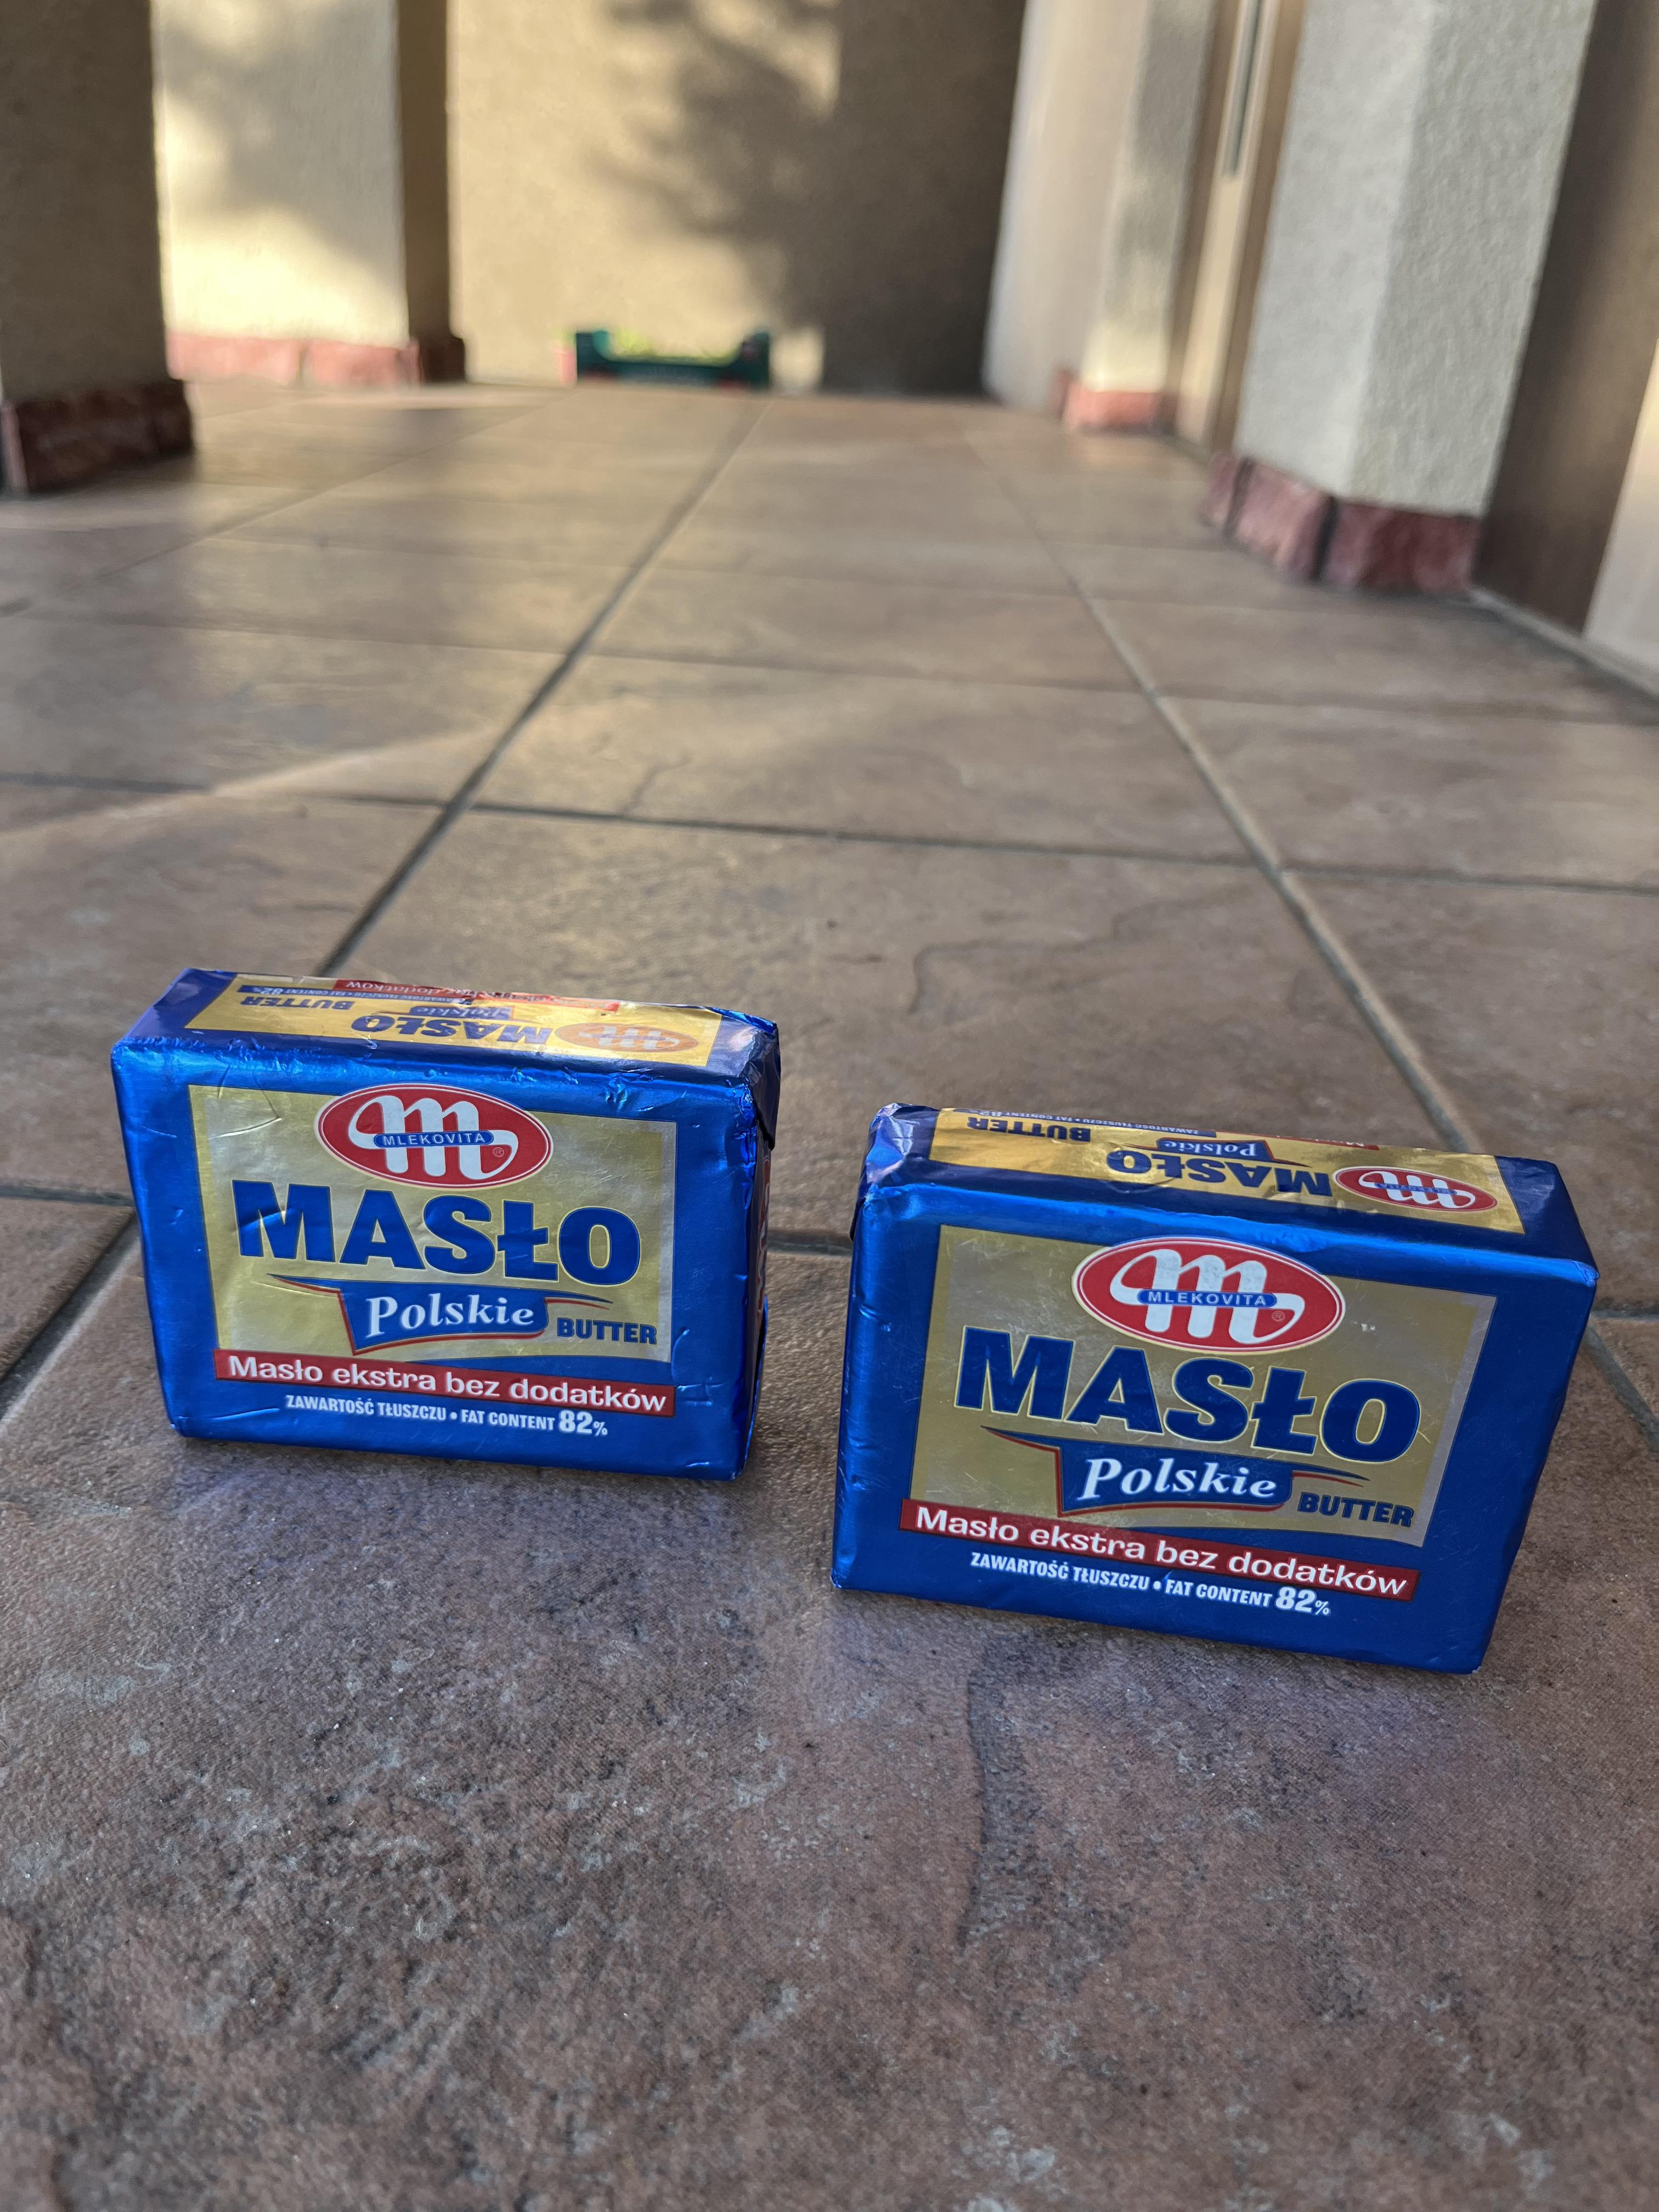Butter: (831, 1085, 1581, 1663), (108, 965, 784, 1498)
